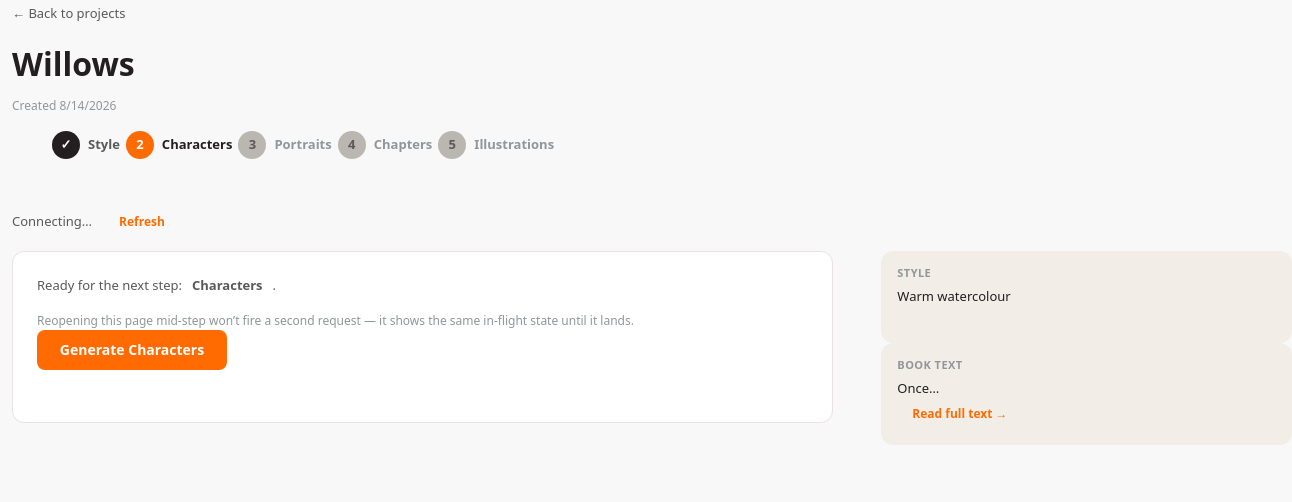
Test: a successful reconciliation replaces prior truth without hiding the transport banner
Click the button "Generate Characters".
click(132, 350)  # box [37,330,227,370]
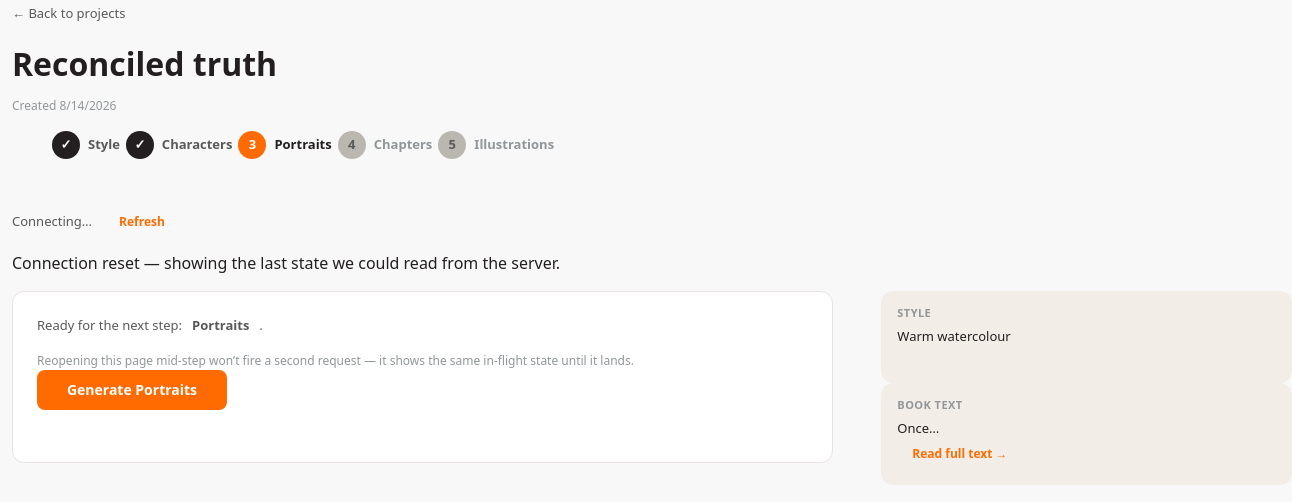
Expected: the button "Generate Portraits" is enabled, [37,370,227,410]
Expected: the heading "Reconciled truth" is shown, [12,42,277,85]
Expected: the message "Connection reset — showing the last state we could read from the server." is shown, [12,252,560,274]
